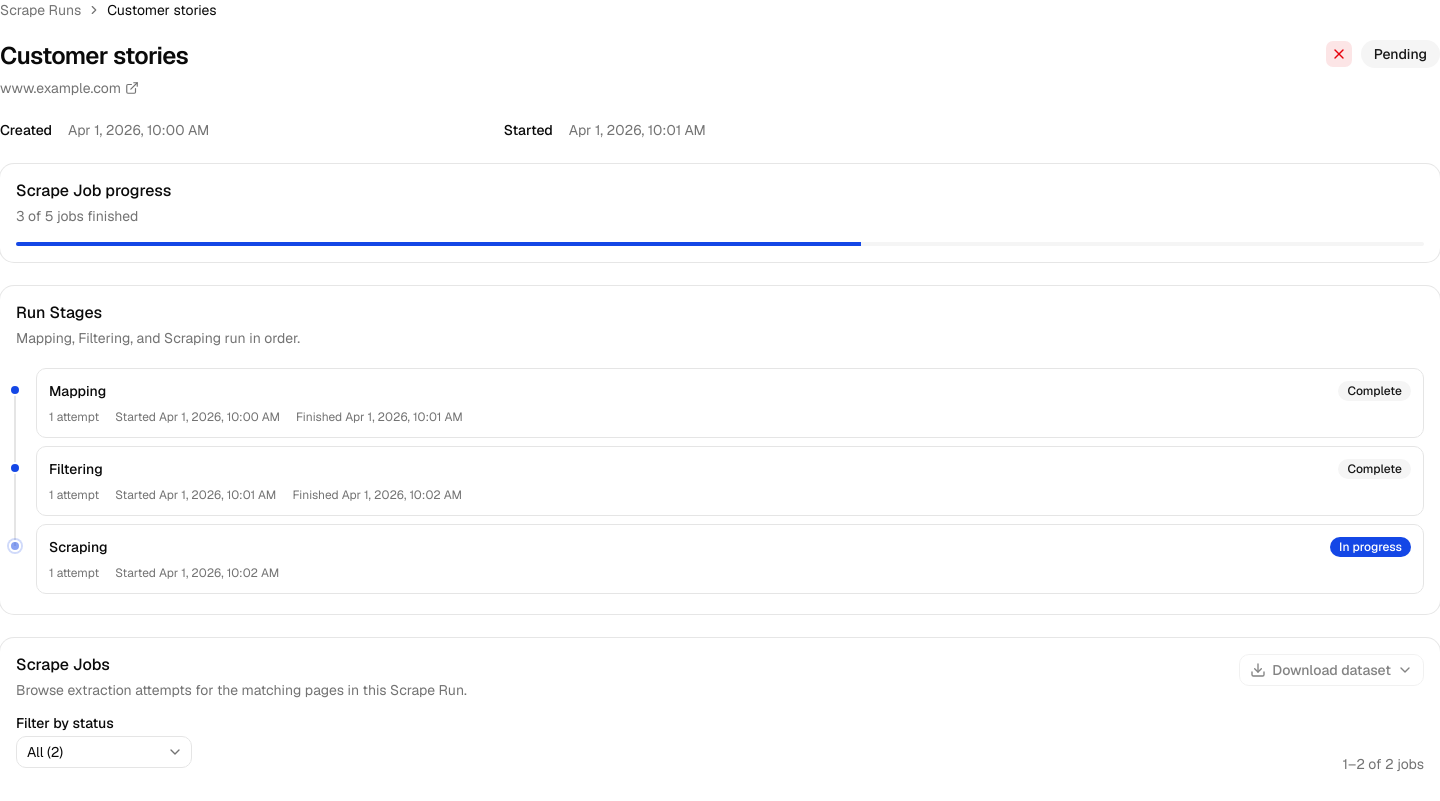
Test: Scrape Run cancellation › projects a validated 202 into detail and list caches before revalidating both read models
This screenshot has width=1440, height=801.
Check: the heading "Customer stories" is shown, box x1=0 y1=40 x2=188 y2=72
What coordinates should you click on to do the following:
click the button named "Cancel Scrape Run"
I would click on:
 (1339, 54)
Its box is x1=1325 y1=40 x2=1353 y2=68.
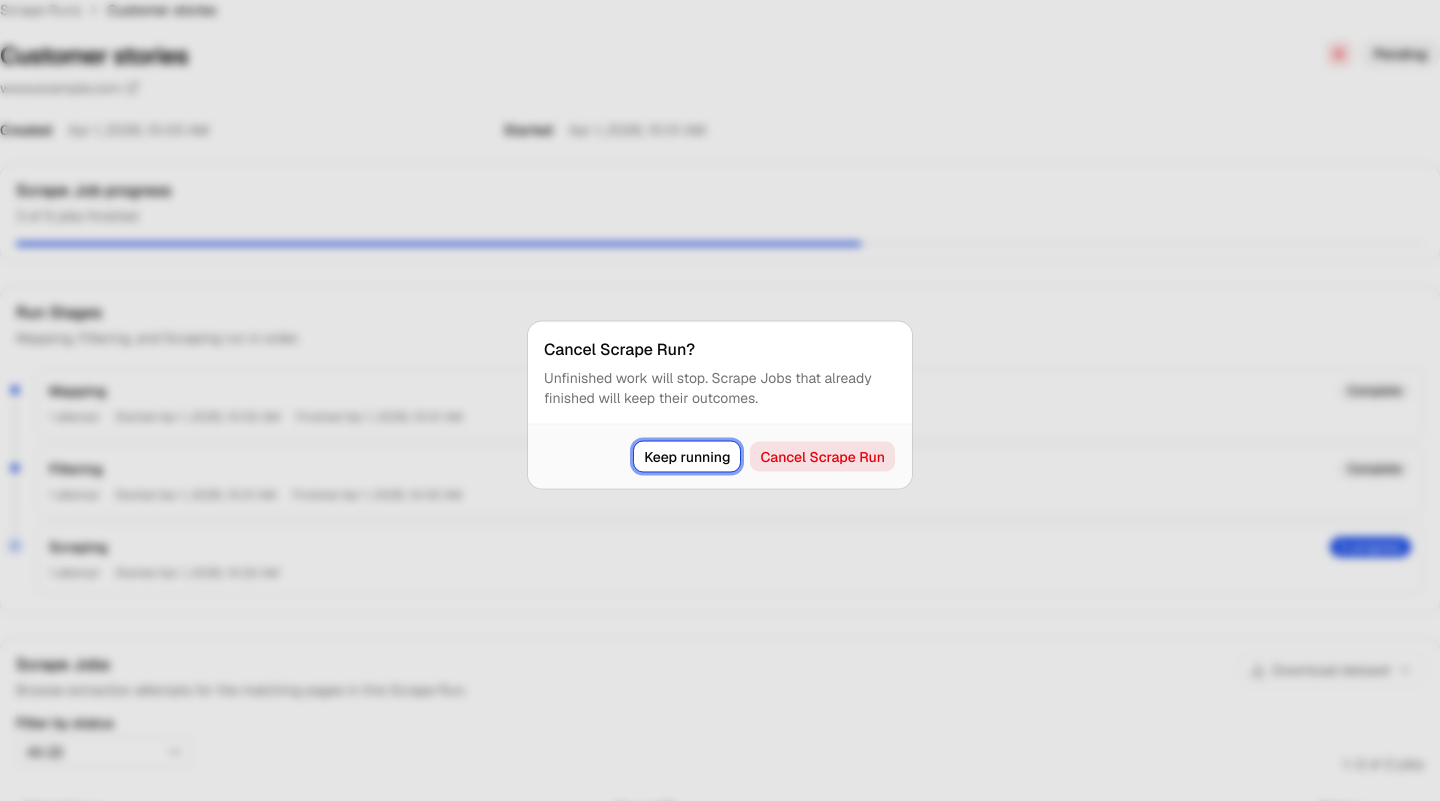
What coordinates should you click on to do the following:
click the button "Cancel Scrape Run"
I would click on:
 (823, 456)
Its box is x1=749 y1=440 x2=896 y2=472.
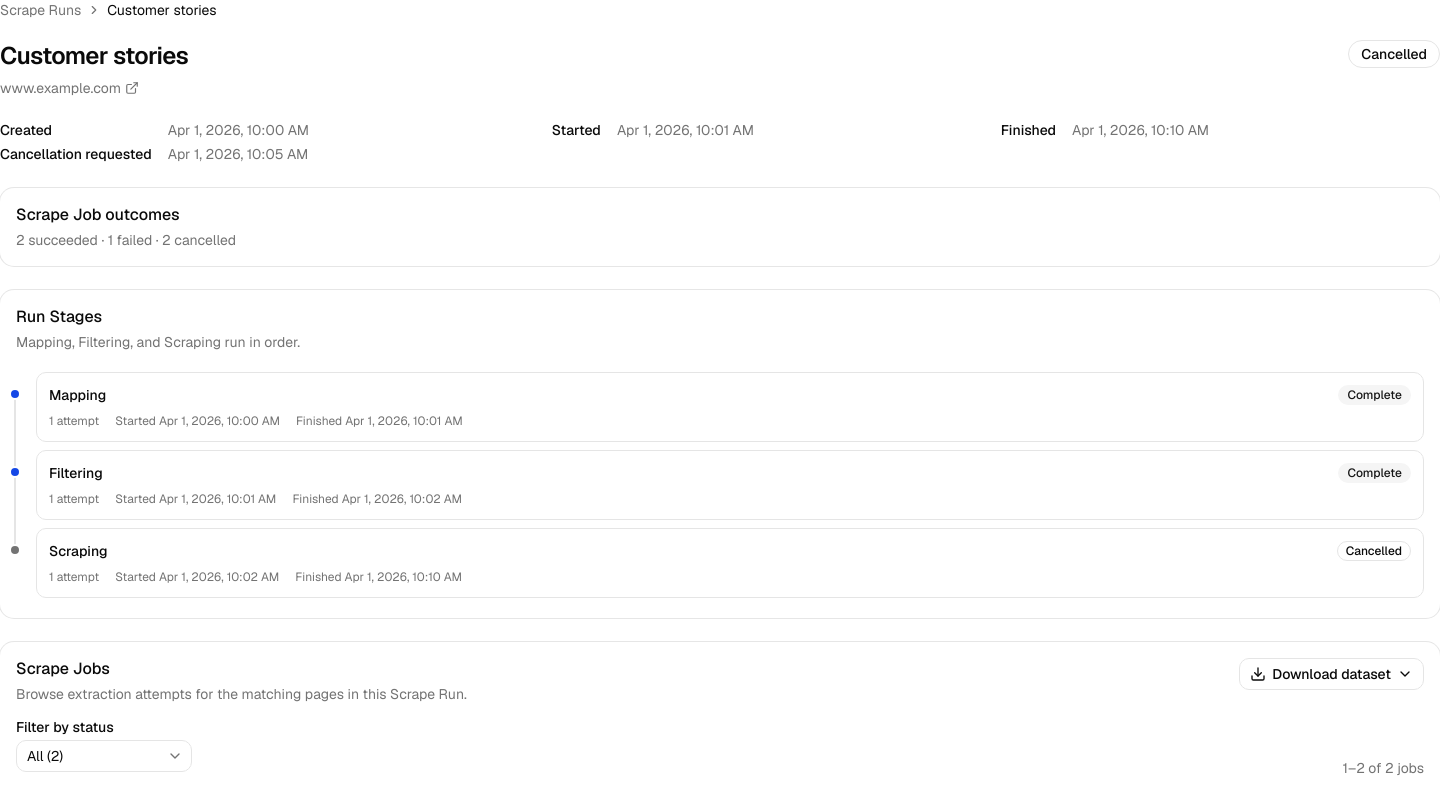
Check: the text named "Status: Cancelled" is shown, box x1=1348 y1=40 x2=1439 y2=68
Check: the dialog is gone
Check: the text "2 succeeded · 1 failed · 2 cancelled" is shown, box x1=16 y1=231 x2=236 y2=249
